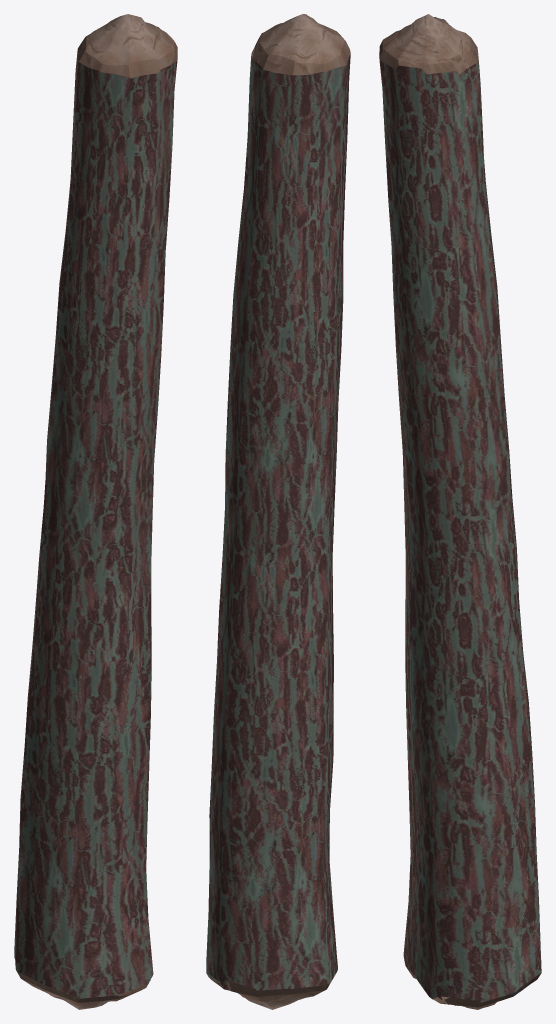
3 views of the same model, side by side, from view 1: azimuth 90°, elevation 25°; view 2: azimuth 150°, elevation 25°; view 3: azimuth 270°, elevation 25° (orthographic).
Parts seen in each view (by area): view 1: SM_MapleTree_02_half_bottom_LOD0; view 2: SM_MapleTree_02_half_bottom_LOD0; view 3: SM_MapleTree_02_half_bottom_LOD0.
Boxes of the visible parts, bbox=[...] form: SM_MapleTree_02_half_bottom_LOD0: bbox=[14, 14, 177, 1009]; SM_MapleTree_02_half_bottom_LOD0: bbox=[206, 14, 350, 1009]; SM_MapleTree_02_half_bottom_LOD0: bbox=[379, 14, 541, 1009].
Bounding box in the file's own units: 0.6374 × 5.02 × 0.745.
1 material, 1 textured.
